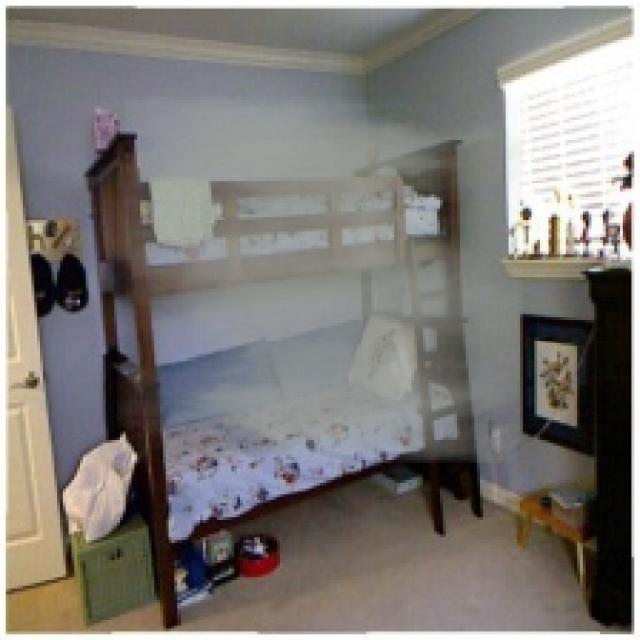smoke: (117, 97, 523, 463)
